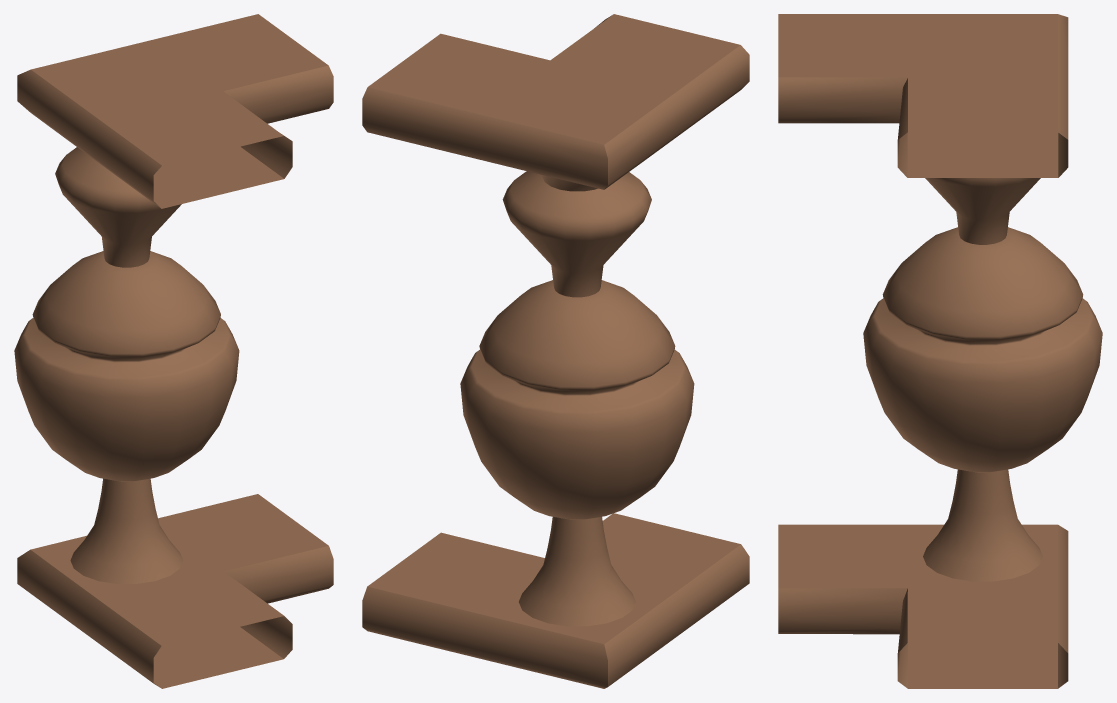
File: OT_119_120_121_122_fancy_railings_corner.glb
3 views of the same model, side by side, from view 1: azimuth 30°, elevation 25°; view 2: azimuth 150°, elevation 25°; view 3: azimuth 270°, elevation 25° (orthographic). The views are drawn at different scales.
Parts seen in each view (by area): view 1: railings, decoration; view 2: railings, decoration; view 3: railings, decoration.
Boxes of the visible parts, x1=… form: railings: x1=17, y1=14, x2=333, y2=688; decoration: x1=14, y1=147, x2=239, y2=583; railings: x1=362, y1=14, x2=749, y2=688; decoration: x1=460, y1=171, x2=694, y2=626; railings: x1=778, y1=14, x2=1068, y2=688; decoration: x1=863, y1=178, x2=1102, y2=581.
Bounding box in the file's own units: 0.5909 × 1.12 × 0.5943.
